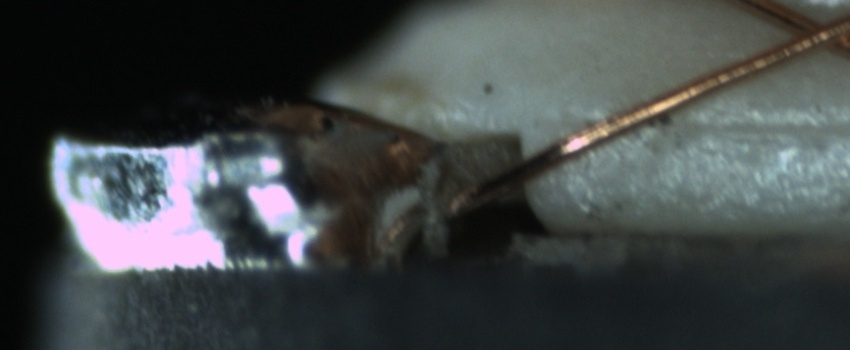CL: (769, 3, 850, 61)
DL: (621, 93, 845, 161)
